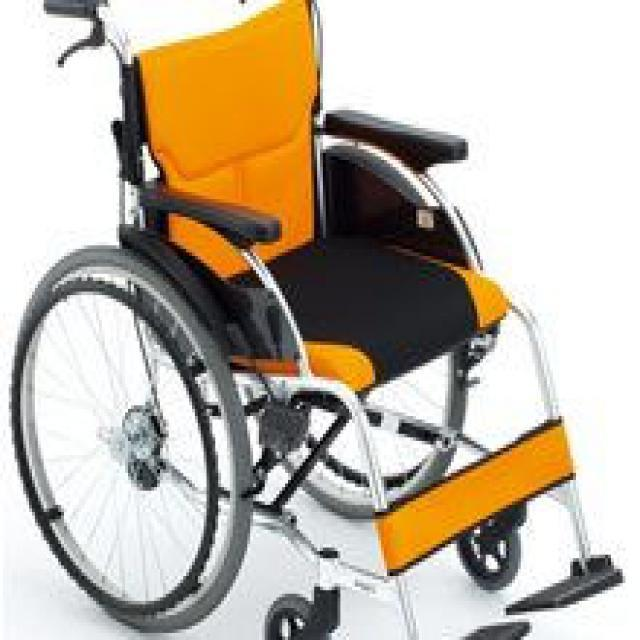wheelchair: (5, 0, 623, 637)
